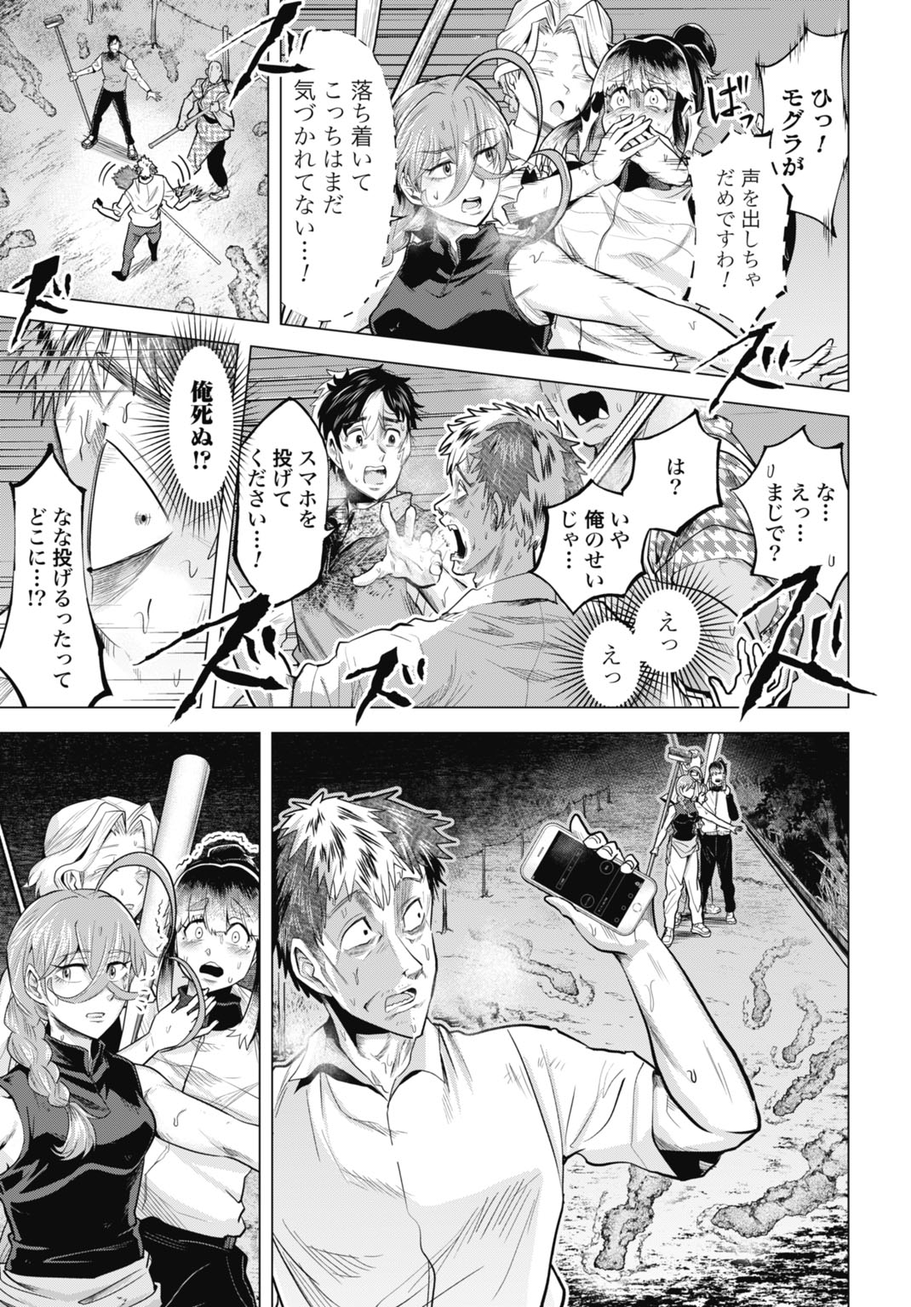bubbles: (525, 404, 746, 617), (273, 21, 416, 332), (2, 437, 119, 713), (676, 119, 796, 338), (730, 421, 852, 619), (231, 389, 340, 609), (758, 16, 856, 241), (567, 577, 725, 711), (146, 331, 242, 522)
